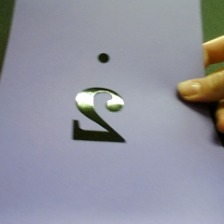violet2: (60, 49, 134, 147)
